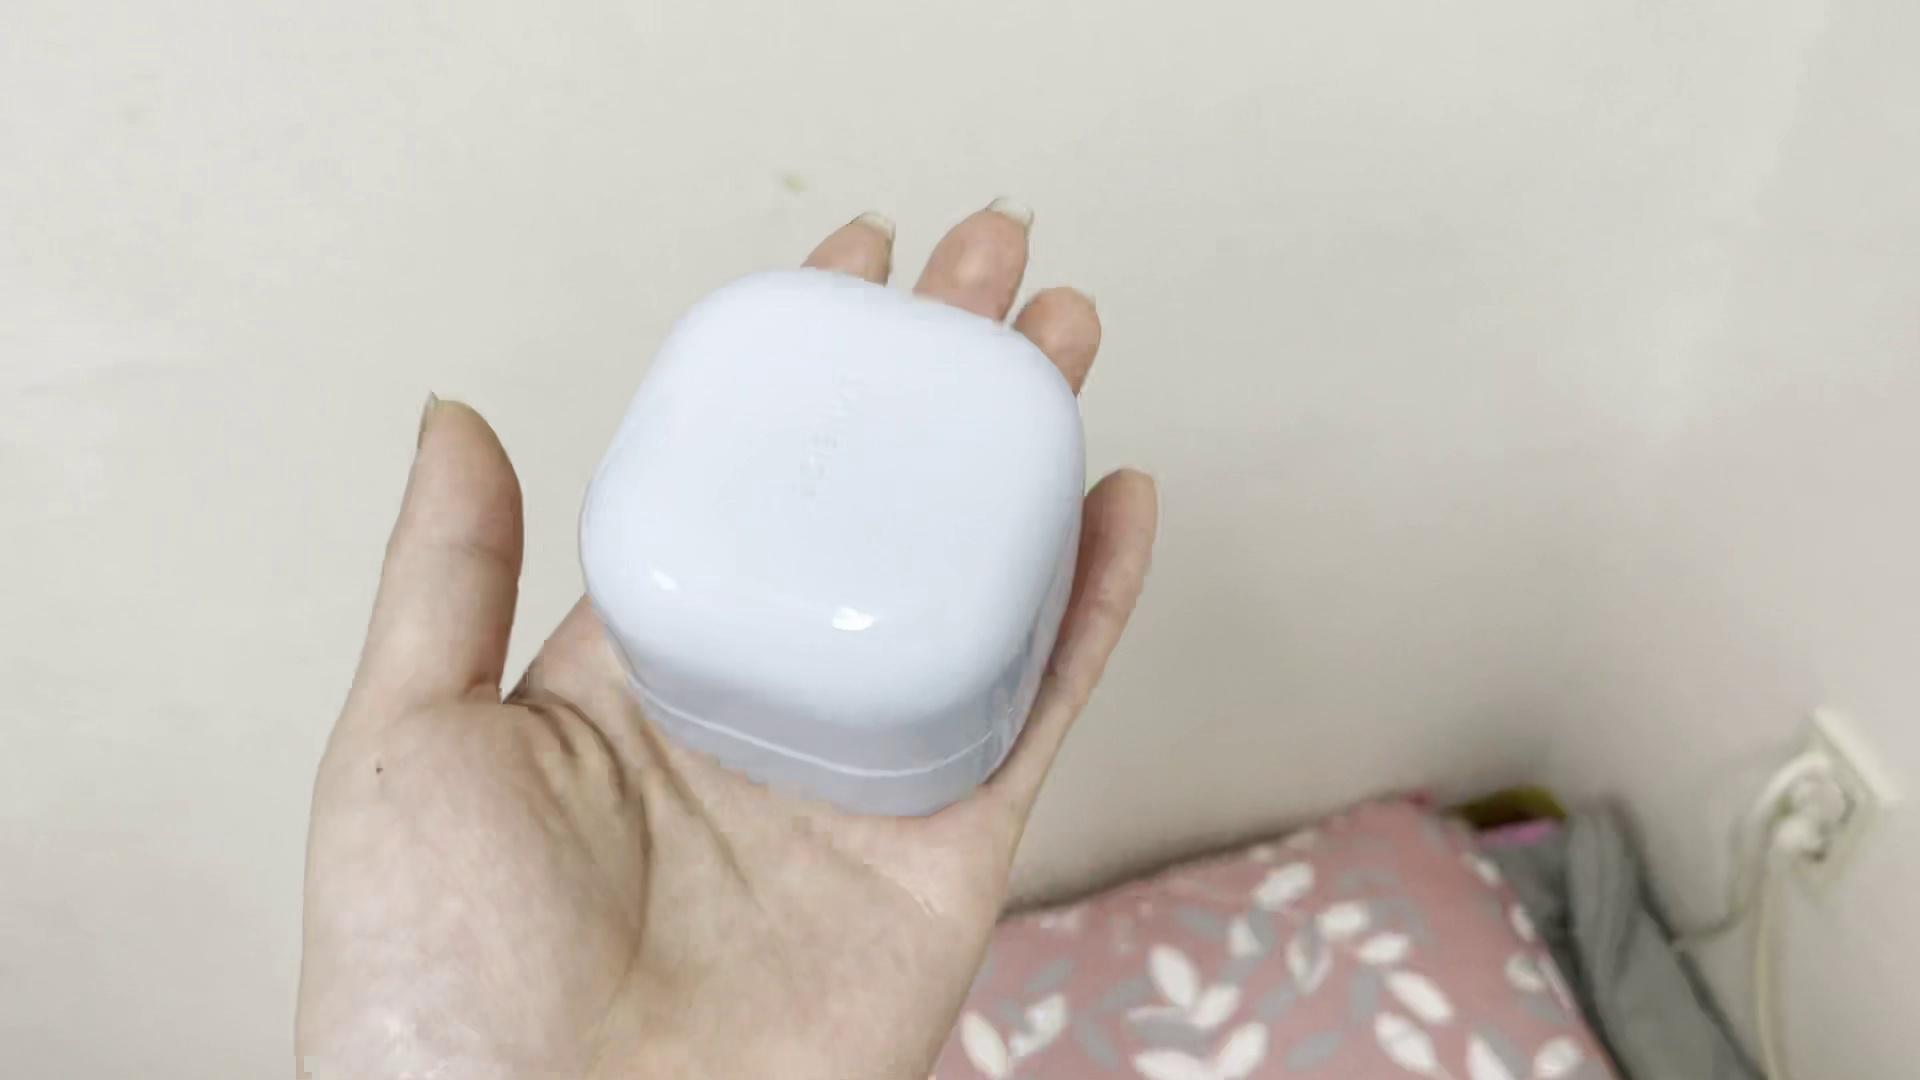cream: (579, 264, 1083, 818)
